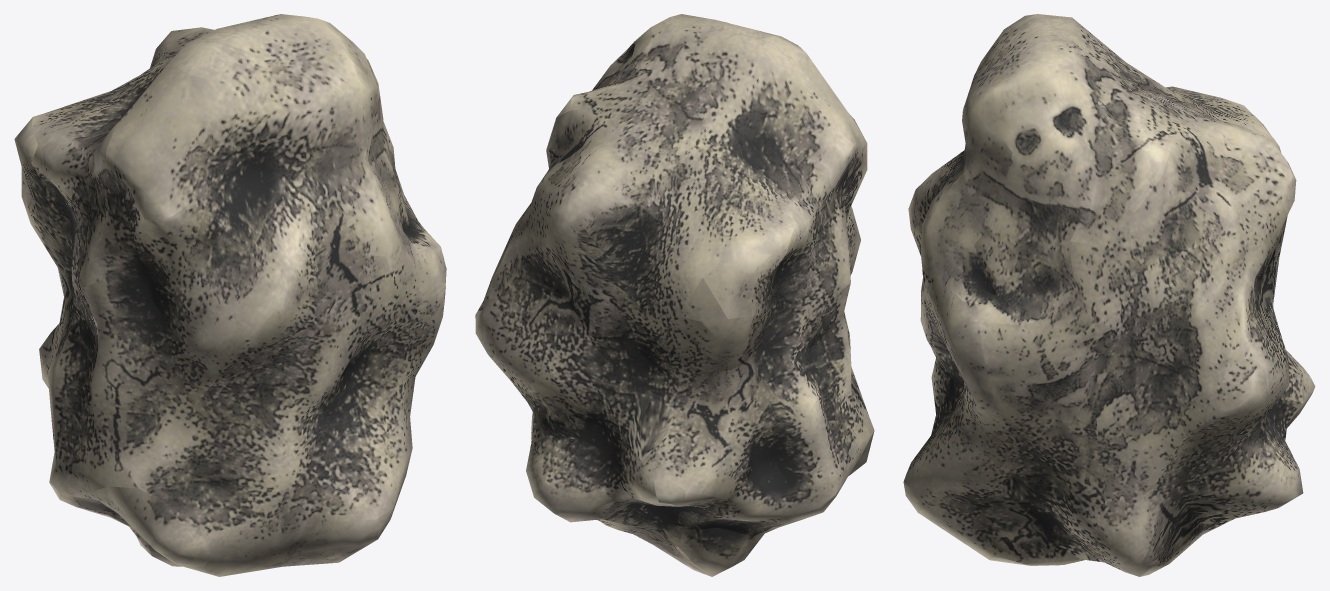
The model's file is rock6_LOD1.fbx.
3 views of the same model, side by side, from view 1: azimuth 30°, elevation 25°; view 2: azimuth 150°, elevation 25°; view 3: azimuth 270°, elevation 25° (orthographic). The views are drawn at different scales.
Parts seen in each view (by area): view 1: rock6; view 2: rock6; view 3: rock6.
Part boxes in pixels (x1=…): rock6: x1=14, y1=14, x2=446, y2=576; rock6: x1=475, y1=14, x2=874, y2=576; rock6: x1=903, y1=14, x2=1315, y2=576.
Size of the model in its own units: 15.61 by 17.1 by 24.62.
